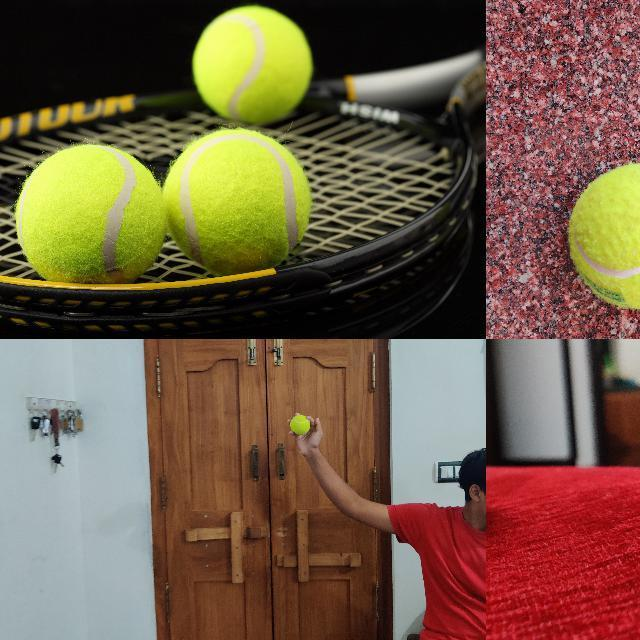tennis-ball: (165, 128, 312, 270), (14, 145, 164, 279), (190, 6, 313, 122), (567, 163, 639, 309), (289, 414, 310, 434)
